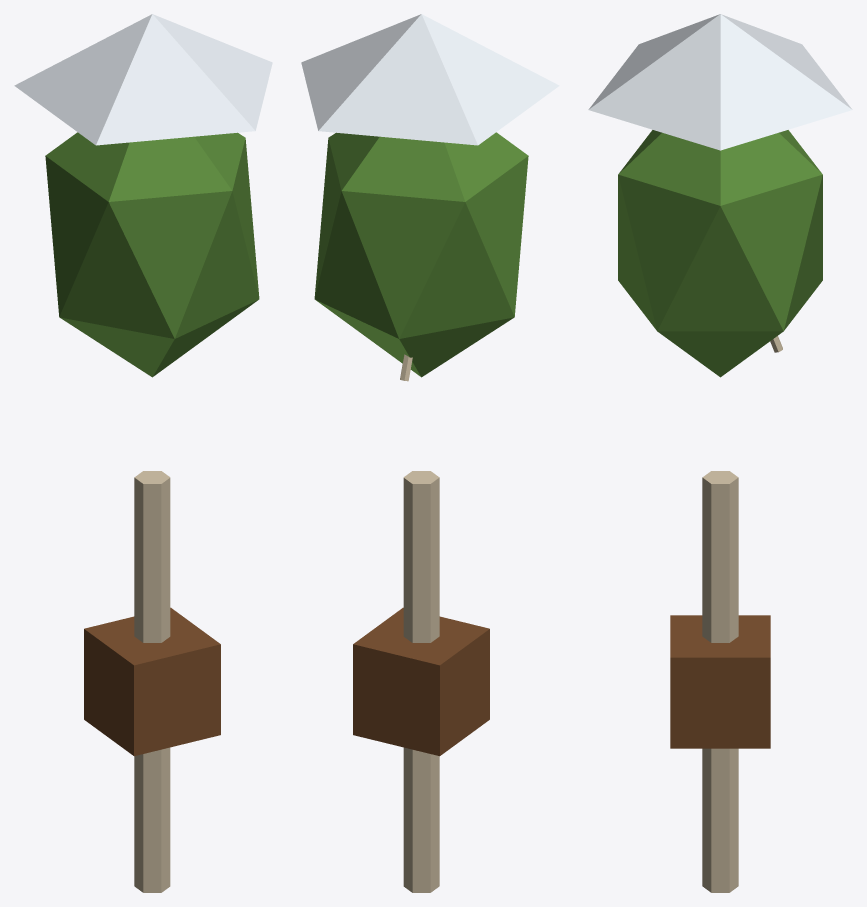
Rendered from flora_tree_birch.glb.
The picture shows the model from 3 angles, left to right: view 1: azimuth 30°, elevation 25°; view 2: azimuth 150°, elevation 25°; view 3: azimuth 270°, elevation 25°; orthographic projection.
Parts seen in each view (by area): view 1: crown, snow_cap, mark_0, trunk; view 2: crown, snow_cap, mark_0, trunk; view 3: crown, snow_cap, mark_0, trunk.
Boxes of the visible parts, x1=… form: crown: x1=45, y1=132, x2=259, y2=377; snow_cap: x1=14, y1=14, x2=272, y2=145; mark_0: x1=84, y1=607, x2=220, y2=756; trunk: x1=134, y1=471, x2=170, y2=892; crown: x1=314, y1=132, x2=528, y2=377; snow_cap: x1=301, y1=14, x2=559, y2=145; mark_0: x1=353, y1=607, x2=489, y2=756; trunk: x1=403, y1=471, x2=439, y2=892; crown: x1=618, y1=130, x2=822, y2=377; snow_cap: x1=588, y1=14, x2=852, y2=150; mark_0: x1=670, y1=615, x2=770, y2=748; trunk: x1=702, y1=471, x2=738, y2=892.
Bounding box in the file's own units: 2.51 × 9.6 × 2.64.
